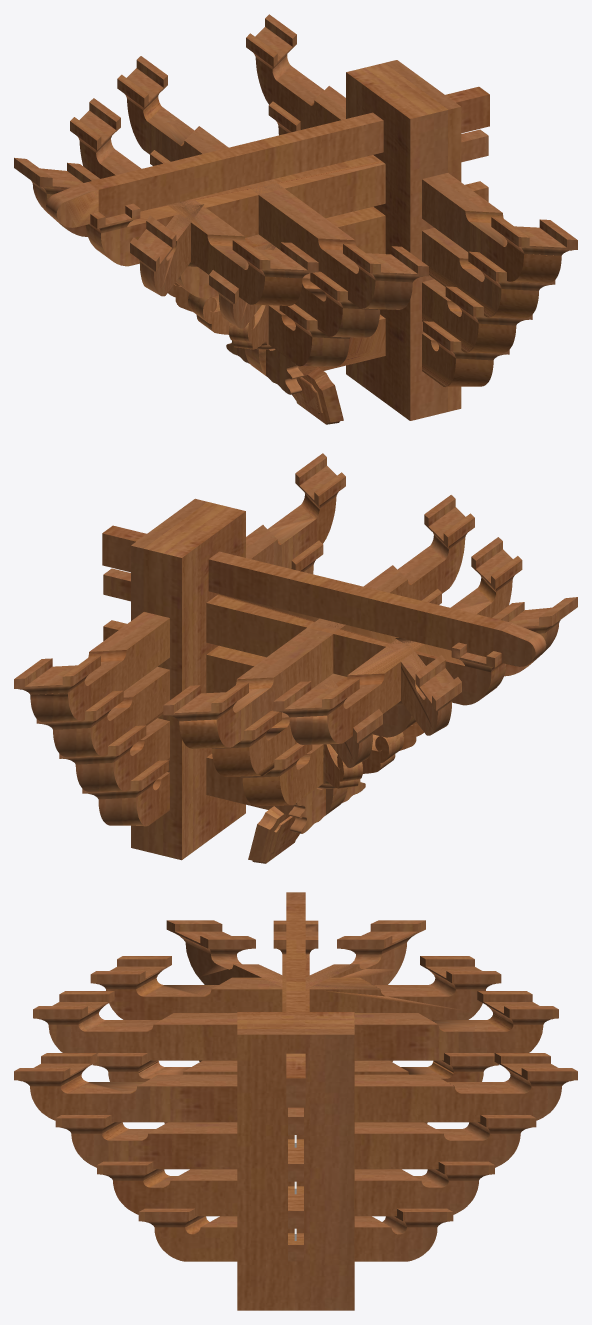
3 views of the same model, one above another, from view 1: azimuth 30°, elevation 25°; view 2: azimuth 150°, elevation 25°; view 3: azimuth 270°, elevation 25° (orthographic). The views are drawn at different scales.
Parts seen in each view (by area): view 1: R4L1; view 2: R4L1; view 3: R4L1.
Part boxes in pixels (left/top/right/bottom): R4L1: left=14, top=14, right=577, bottom=424; R4L1: left=14, top=453, right=577, bottom=863; R4L1: left=14, top=892, right=577, bottom=1310.
Size of the model in its own units: 39.88 by 26.6 by 49.24.
Materials: 2 (1 with a texture image).
